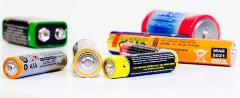electronic: (102, 26, 240, 72), (139, 6, 225, 46), (3, 6, 72, 54), (4, 45, 72, 84), (103, 52, 180, 82), (70, 34, 104, 82)
